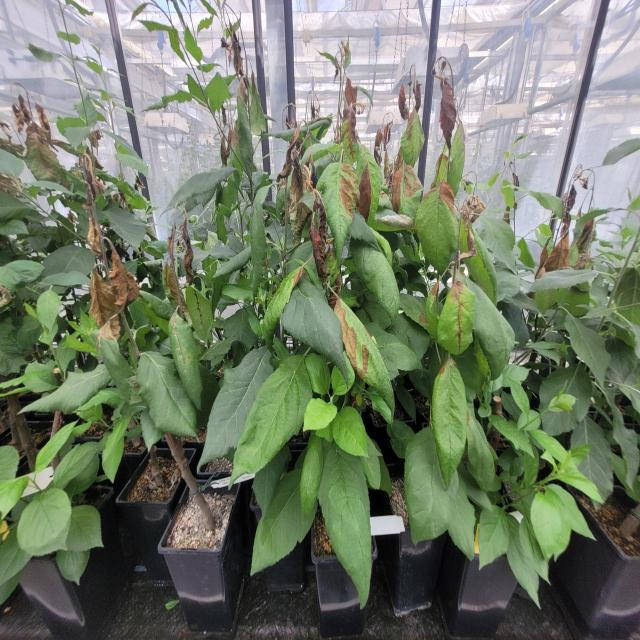-FireBlight-: (276, 98, 342, 305), (318, 42, 397, 192), (79, 150, 133, 333), (537, 170, 603, 275), (0, 87, 51, 195), (163, 208, 196, 324), (428, 52, 458, 150)
